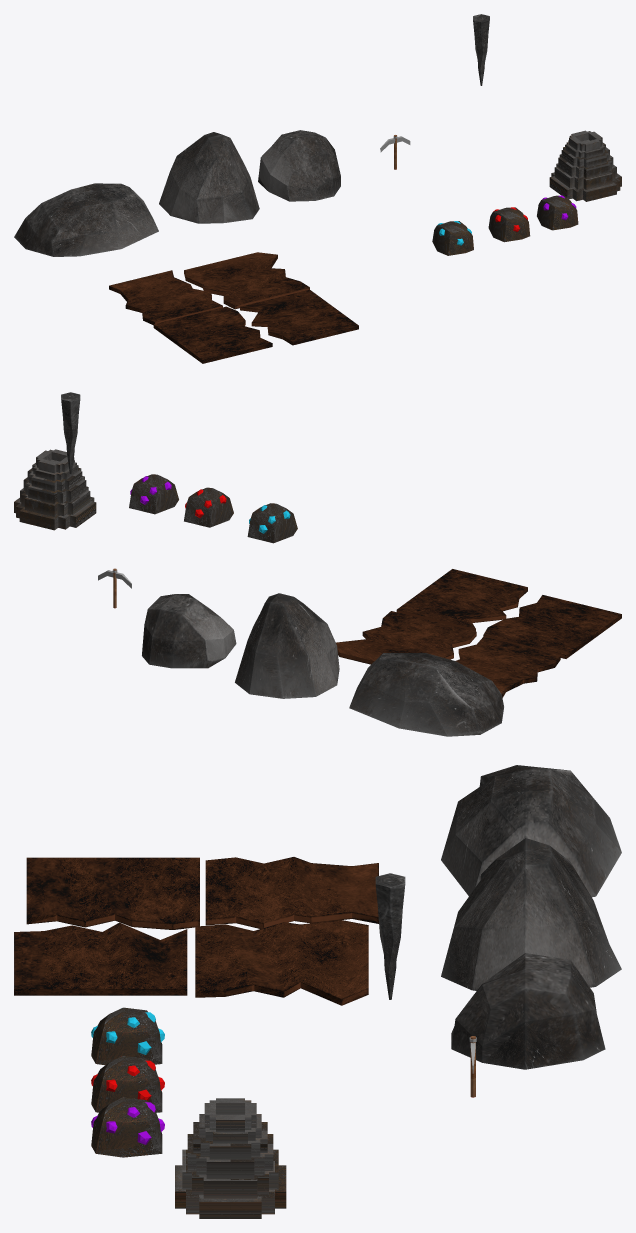
The model's file is Decorations_volcano.fbx.
3 renders of one model, top to bottom at view 1: azimuth 30°, elevation 25°; view 2: azimuth 150°, elevation 25°; view 3: azimuth 270°, elevation 25°, orthographic. The views are drawn at different scales.
Visible parts, largest first — view 1: pCube297, pCube296, pCube295, pCube299, pCube301, pCube298, pCube290, pCube300, pCube294 (×3), pCylinder53; view 2: pCube297, pCube296, pCube295, pCube301, pCube298, pCube290, pCube299, pCube294 (×3), pCube300, pCylinder53; view 3: pCube296, pCube297, pCube295, pCube299, pCube301, pCube298, pCube300, pCube290, pCube294 (×3), pCylinder53.
Part boxes in pixels (left/top/right/bottom): pCube297: left=14, top=183, right=158, bottom=256; pCube296: left=159, top=132, right=259, bottom=223; pCube295: left=258, top=130, right=340, bottom=201; pCube299: left=184, top=252, right=309, bottom=309; pCube301: left=153, top=306, right=272, bottom=363; pCube298: left=240, top=289, right=358, bottom=345; pCube290: left=549, top=130, right=621, bottom=201; pCube300: left=109, top=270, right=222, bottom=325; pCube294 (×3): left=432, top=195, right=578, bottom=255; pCylinder53: left=473, top=14, right=489, bottom=85; pCube297: left=349, top=653, right=503, bottom=736; pCube296: left=235, top=593, right=339, bottom=698; pCube295: left=142, top=594, right=236, bottom=668; pCube301: left=483, top=595, right=621, bottom=658; pCube298: left=396, top=569, right=527, bottom=631; pCube290: left=14, top=449, right=96, bottom=530; pCube299: left=336, top=611, right=476, bottom=664; pCube294 (×3): left=129, top=474, right=297, bottom=543; pCube300: left=456, top=636, right=560, bottom=697; pCylinder53: left=61, top=392, right=80, bottom=473; pCube296: left=441, top=838, right=621, bottom=990; pCube297: left=441, top=765, right=621, bottom=897; pCube295: left=451, top=953, right=605, bottom=1069; pCube299: left=195, top=920, right=368, bottom=1005; pCube301: left=26, top=857, right=199, bottom=929; pCube298: left=14, top=922, right=187, bottom=995; pCube300: left=205, top=857, right=378, bottom=928; pCube290: left=175, top=1098, right=286, bottom=1218; pCube294 (×3): left=91, top=1007, right=162, bottom=1157; pCylinder53: left=375, top=873, right=405, bottom=999.
Bounding box in the file's own units: 74.9 × 25.16 × 44.38.
